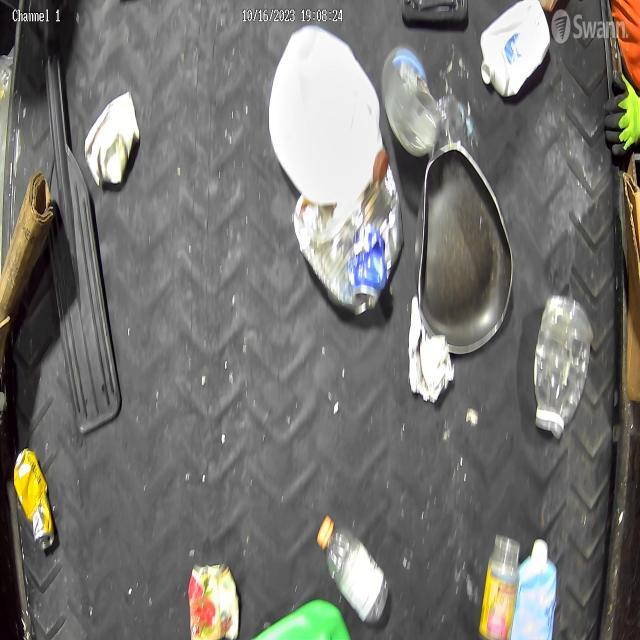can: (292, 164, 404, 319), (84, 88, 144, 191), (13, 448, 56, 554), (188, 557, 242, 640)
milk_jug: (266, 22, 388, 206), (480, 0, 552, 101)
non_white_jug: (509, 530, 559, 640), (250, 596, 353, 640)
plastic_bottle: (317, 512, 392, 626)
